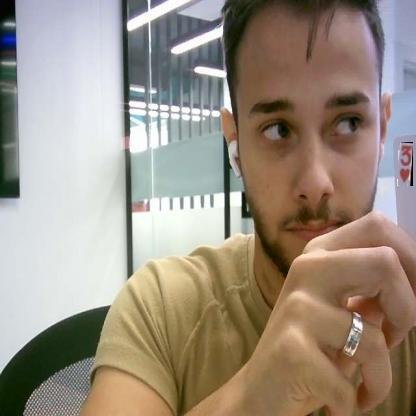3H: (398, 142, 413, 186)
